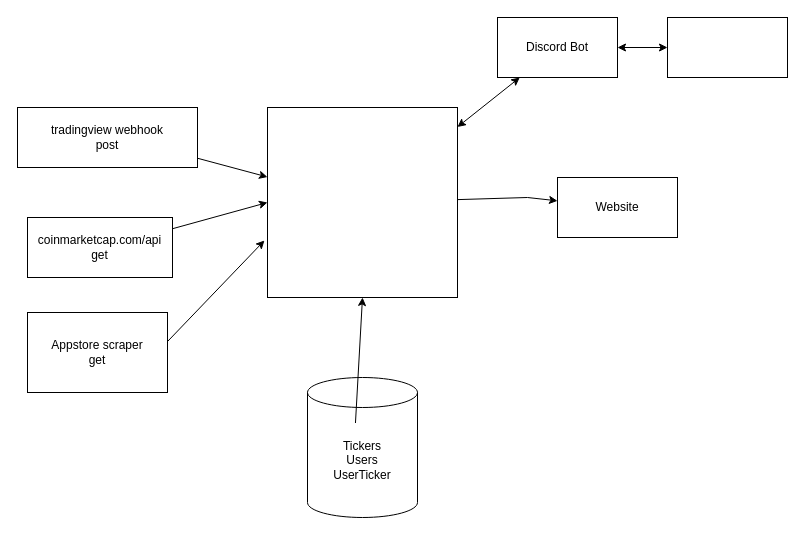
The diagram is 805 pixels wide and 535 high, and some of its shapes have lost their labels. Here are the shapes that lost their labels. From the top down, the box of each, then its label:
(666, 16, 788, 78): discord channel
(266, 106, 458, 298): API wait for POST then GET the rest /ticker/post /ticker/get /ticker/get/{id}
